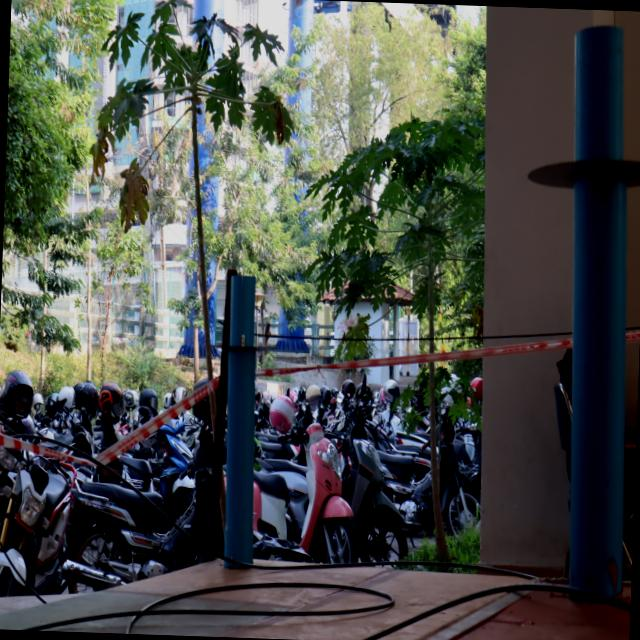pole: (518, 21, 640, 259), (200, 268, 286, 414)
